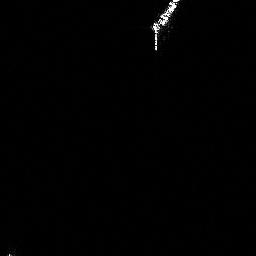ship: (148, 1, 182, 53)
